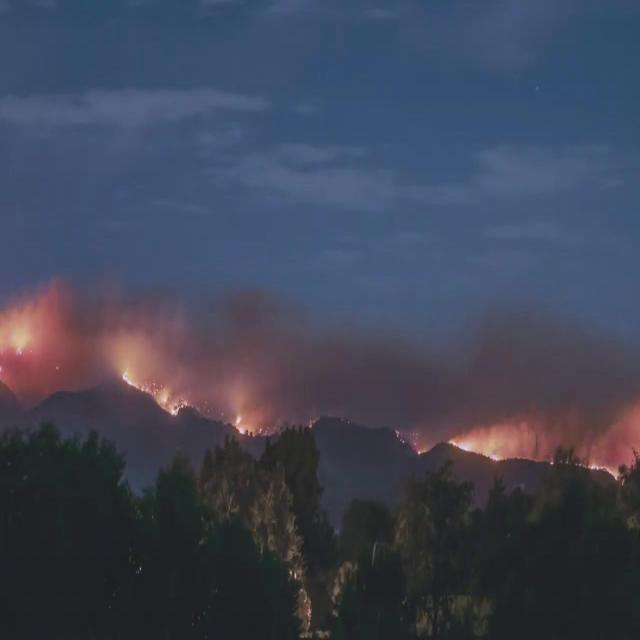Fire: (124, 362, 195, 410), (449, 428, 510, 462), (7, 298, 31, 358), (583, 453, 623, 483), (234, 406, 263, 441), (416, 448, 426, 457)
